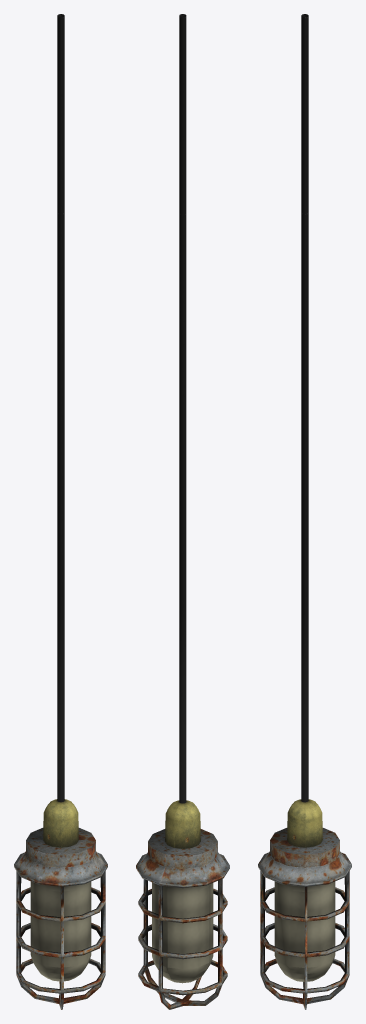
The model's file is Bunkerlight.FBX.
The picture shows the model from 3 angles, left to right: view 1: azimuth 90°, elevation 25°; view 2: azimuth 150°, elevation 25°; view 3: azimuth 270°, elevation 25°; orthographic projection.
Parts seen in each view (by area): view 1: Cylinder; view 2: Cylinder; view 3: Cylinder.
Part boxes in pixels (box(x1,y1,x2,y2)): Cylinder: box(14, 14, 107, 1009); Cylinder: box(136, 14, 229, 1009); Cylinder: box(258, 14, 351, 1009).
Size of the model in its own units: 0.0736 by 0.8547 by 0.0736.
1 material, 1 textured.
